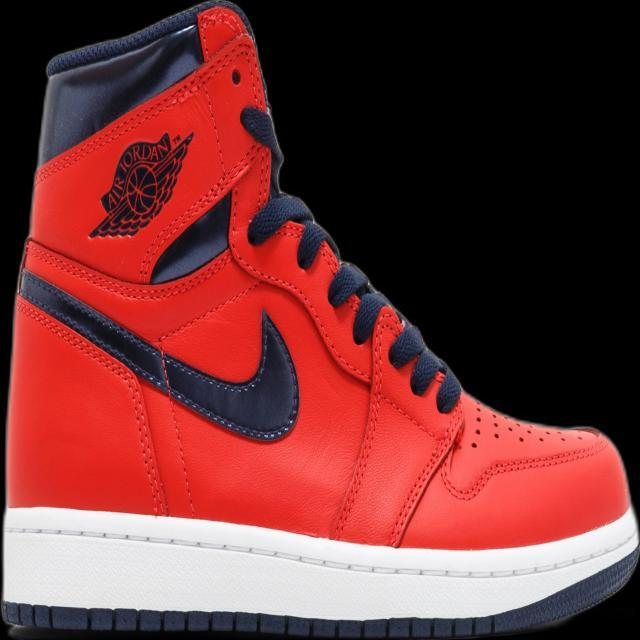J1_InsoleChar: (1, 0, 637, 638)
J1_ShoeLogo: (87, 129, 194, 240)
J1_StitchPattern: (13, 222, 465, 543), (14, 265, 300, 443), (248, 191, 462, 414), (13, 266, 196, 517), (2, 518, 636, 584), (328, 289, 462, 543), (325, 258, 463, 414), (1, 600, 495, 637), (327, 303, 393, 542), (387, 408, 466, 548), (156, 349, 199, 518)
